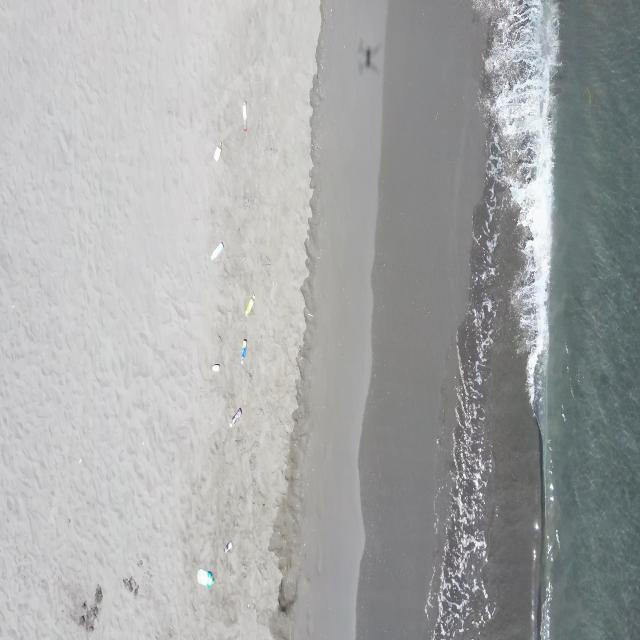Garbage: (196, 568, 212, 587), (209, 241, 223, 260), (228, 407, 240, 427), (243, 295, 253, 316), (240, 337, 247, 364), (241, 100, 246, 131), (223, 540, 232, 552), (213, 145, 220, 160), (212, 364, 220, 371)
